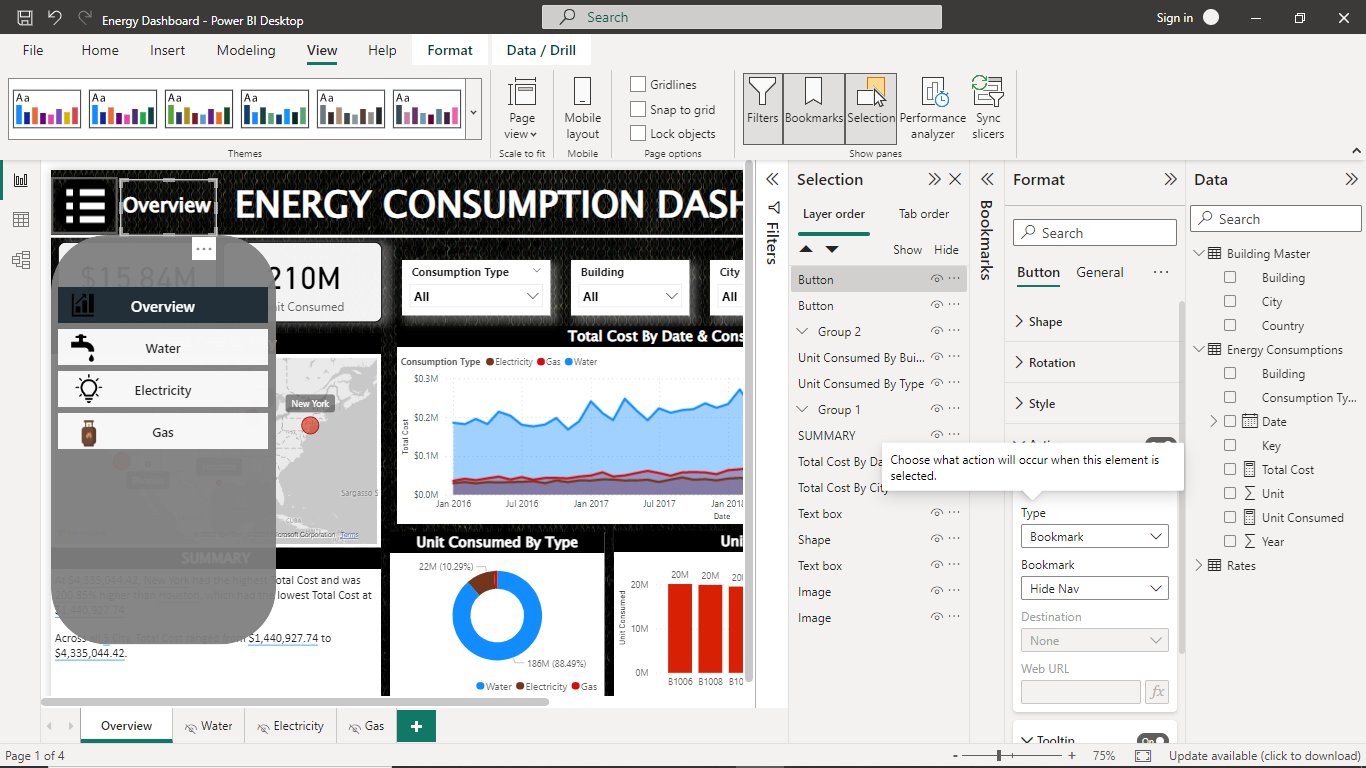

Layout of this report page (visuals, bound fields, positions):
{"tool":"powerbi","page":{"name":"Overview","canvas":[1280,720],"ordinal":0},"visuals":[{"type":"image","box":[1110.3,0,169.7,99.1],"z":0},{"type":"card","fields":{"Values":["Energy Consumptions.Total Cost"]},"box":[9.6,96.3,212,107.4],"z":0,"group":"g1"},{"type":"image","box":[0,0,92.4,95.7],"z":1000},{"type":"card","fields":{"Values":["Energy Consumptions.Unit Consumed"]},"box":[229.8,96.3,212,107.4],"z":1000,"group":"g1"},{"type":"textbox","box":[65.3,18.7,178.7,77.3],"z":2000},{"type":"slicer","fields":{"Values":["Energy Consumptions.Consumption Type"]},"box":[467.9,119.7,198.2,74.3],"z":2000,"group":"g1"},{"type":"shape","box":[0,77.1,1280,22],"z":3000},{"type":"slicer","fields":{"Values":["Energy Consumptions.Building"]},"box":[693.6,119.7,158.3,74.3],"z":3000,"group":"g1"},{"type":"textbox","box":[154.5,3.4,1038.1,95.7],"z":4000},{"type":"slicer","fields":{"Values":["Building Master.City"]},"box":[879.4,119.7,150,74.3],"z":4000,"group":"g1"},{"type":"slicer","fields":{"Values":["Energy Consumptions.Date"]},"box":[1058.1,110.8,222,92],"z":5000,"group":"g1"},{"type":"map","title":"Total Cost By City","fields":{"Category":["Building Master.City"],"Size":["Energy Consumptions.Total Cost"]},"box":[0,217.5,440.4,286.3],"z":5000},{"type":"areaChart","title":"Total Cost By Date & Consumption Type","fields":{"Category":["Energy Consumptions.Date"],"Series":["Energy Consumptions.Consumption Type"],"Y":["Energy Consumptions.Total Cost"]},"box":[461.1,207.8,818.9,264.3],"z":6000},{"type":"textbox","title":"SUMMARY","box":[0,503.7,440.4,203.7],"z":7000},{"type":"group","id":"g1","title":"Group 1","box":[9.6,96.3,1270.4,107.4],"z":8000},{"type":"donutChart","title":"Unit Consumed By Type","fields":{"Category":["Energy Consumptions.Consumption Type"],"Y":["Energy Consumptions.Unit Consumed"]},"box":[451.4,483.1,286.3,224.3],"z":9000},{"type":"clusteredColumnChart","title":"Unit Consumed By Building","fields":{"Category":["Energy Consumptions.Building"],"Y":["Energy Consumptions.Unit Consumed"]},"box":[750.1,481.7,529.9,228.5],"z":10000},{"type":"actionButton","box":[0,0,92,86.7],"z":13000}]}

Visuals, with their boxes on the page's 1280x720 design canvas (x1, y1, x2, y2). These are canvas units, not pixel positions in the 1366x768 screenshot, which may show the page scaled, cropped or inside an application window:
image: 1110, 0, 1280, 99
card - Energy Consumptions.Total Cost: 10, 96, 222, 204
image: 0, 0, 92, 96
card - Energy Consumptions.Unit Consumed: 230, 96, 442, 204
textbox: 65, 19, 244, 96
slicer - Energy Consumptions.Consumption Type: 468, 120, 666, 194
shape: 0, 77, 1280, 99
slicer - Energy Consumptions.Building: 694, 120, 852, 194
textbox: 154, 3, 1193, 99
slicer - Building Master.City: 879, 120, 1029, 194
slicer - Energy Consumptions.Date: 1058, 111, 1280, 203
"Total Cost By City" map: 0, 218, 440, 504
"Total Cost By Date & Consumption Type" areaChart: 461, 208, 1280, 472
"SUMMARY" textbox: 0, 504, 440, 707
"Group 1" group: 10, 96, 1280, 204
"Unit Consumed By Type" donutChart: 451, 483, 738, 707
"Unit Consumed By Building" clusteredColumnChart: 750, 482, 1280, 710
actionButton: 0, 0, 92, 87
